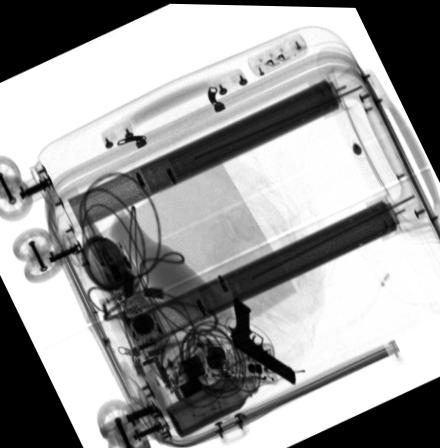Gun: (226, 297, 296, 385)
